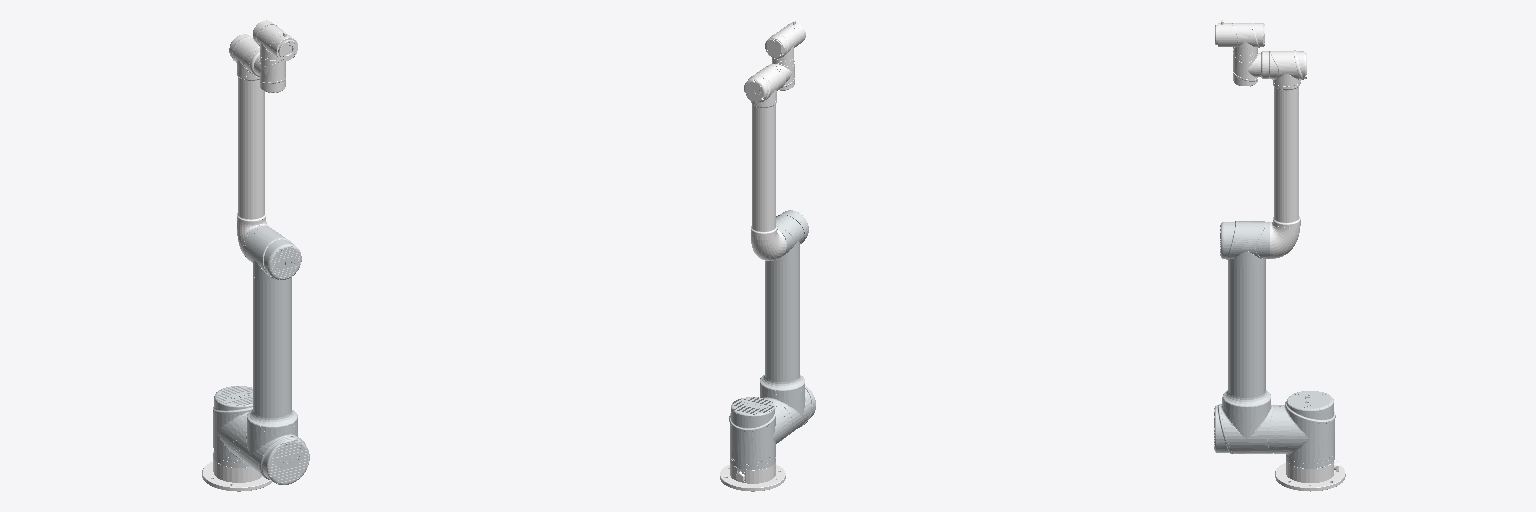
URDF robot description (aubo_i10):
<robot name="aubo_i10">

<!-- base_link-->

  <link name="base_link">
    <inertial>
      <origin xyz="-2.7535E-06 0.00054789 0.02299" rpy="0 0 0" />
      <mass value="1.2345" />
      <inertia ixx="0.0029215" ixy="2.2046E-07" ixz="-3.4773E-08" iyy="0.0028546" iyz="-7.6362E-06" izz="0.0051176" />
    </inertial>
    <visual>
      <origin xyz="0 0 0" rpy="0 0 0" />
      <geometry>
        <mesh filename="package://aubo_description/meshes/aubo_i10/base_link.DAE" />
      </geometry>
      <material name="">
        <color rgba="1 1 1 1" />
      </material>
    </visual>
    <collision>
      <origin xyz="0 0 0" rpy="0 0 0" />
      <geometry>
        <mesh filename="package://aubo_description/meshes/aubo_i10/base_link.STL" />
      </geometry>
    </collision>
  </link>

<!-- shoulder_Link -->

  <link name="shoulder_Link">
    <inertial>
      <origin xyz="0.00029287 0.14173 0.54281" rpy="0 0 0" />
      <mass value="10.994" />
      <inertia ixx="2.2088" ixy="-0.00043922" ixz="-0.0025417" iyy="2.1473" iyz="-0.049088" izz="0.07998" />
    </inertial>
    <visual>
      <origin xyz="0 0 0" rpy="0 0 0" />
      <geometry>
        <mesh
          filename="package://aubo_description/meshes/aubo_i10/shoulder_Link.DAE" />
      </geometry>
      <material name="">
        <color rgba="0.89804 0.91765 0.92941 1" />
      </material>
    </visual>
    <collision>
      <origin xyz="0 0 0" rpy="0 0 0" />
      <geometry>
        <mesh filename="package://aubo_description/meshes/aubo_i10/shoulder_Link.STL" />
      </geometry>
    </collision>
  </link>

<!-- shoulder_joint -->

  <joint name="shoulder_joint" type="revolute">
    <origin xyz="0 0 0.1632" rpy="-8.7138E-17 -4.3534E-32 3.1416" />
    <parent link="base_link" />
    <child link="shoulder_Link" />
    <axis xyz="0 0 1" />
    <limit lower="-3.05" upper="3.05" effort="0" velocity="0" />
  </joint>

<!-- upperArm_Link -->

  <link name="upperArm_Link">
    <inertial>
      <origin xyz="0.31908 -3.7071E-06 -0.0042956" rpy="0 0 0" />
      <mass value="5.3139" />
      <inertia ixx="0.0095171" ixy="7.2849E-06" ixz="-6.7014E-06" iyy="0.11411" iyz="-1.1529E-06" izz="0.11411" />
    </inertial>
    <visual>
      <origin xyz="0 0 0" rpy="0 0 0" />
      <geometry>
        <mesh filename="package://aubo_description/meshes/aubo_i10/upperArm_Link.DAE" />
      </geometry>
      <material name="">
        <color rgba="0.89804 0.91765 0.92941 1" />
      </material>
    </visual>
    <collision>
      <origin xyz="0 0 0" rpy="0 0 0" />
      <geometry>
        <mesh filename="package://aubo_description/meshes/aubo_i10/upperArm_Link.STL" />
      </geometry>
    </collision>
  </link>

<!-- upperArm_Joint -->

  <joint name="upperArm_joint" type="revolute">
    <origin xyz="0 0.2013 0" rpy="-1.5708 -1.5708 0" />
    <parent link="shoulder_Link" />
    <child link="upperArm_Link" />
    <axis xyz="0 0 1" />
    <limit lower="-3.05" upper="3.05" effort="0" velocity="0" />
  </joint>

<!-- foreArm_Link -->

  <link name="foreArm_Link">
    <inertial>
      <origin xyz="0.24431 6.6794E-06 0.12549" rpy="0 0 0" />
      <mass value="3.1022" />
      <inertia ixx="0.0027288" ixy="-6.2713E-06" ixz="-0.0018082" iyy="0.097825" iyz="3.5731E-07" izz="0.097866" />
    </inertial>
    <visual>
      <origin xyz="0 0 0" rpy="0 0 0" />
      <geometry>
        <mesh filename="package://aubo_description/meshes/aubo_i10/foreArm_Link.DAE" />
      </geometry>
      <material name="">
        <color rgba="1 1 1 1" />
      </material>
    </visual>
    <collision>
      <origin xyz="0 0 0" rpy="0 0 0" />
      <geometry>
        <mesh filename="package://aubo_description/meshes/aubo_i10/foreArm_Link.STL" />
      </geometry>
    </collision>
  </link>

<!-- foreArm_Joint -->

  <joint name="foreArm_joint" type="revolute">
    <origin xyz="0.647 0 0" rpy="3.1416 -4.5954E-17 -8.4328E-17" />
    <parent link="upperArm_Link" />
    <child link="foreArm_Link" />
    <axis xyz="0 0 -1" />
    <limit lower="-3.05" upper="3.05" effort="0" velocity="0" />
  </joint>

<!-- wrist1_Link -->

  <link name="wrist1_Link">
    <inertial>
      <origin xyz="5.2305E-07 0.00026581 -0.0027894" rpy="0 0 0" />
      <mass value="0.57981" />
      <inertia ixx="0.00088336" ixy="-6.425E-09" ixz="5.1594E-09" iyy="0.00046118" iyz="-1.0734E-06" izz="0.00085336" />
    </inertial>
    <visual>
      <origin xyz="0 0 0" rpy="0 0 0" />
      <geometry>
        <mesh filename="package://aubo_description/meshes/aubo_i10/wrist1_Link.DAE" />
      </geometry>
      <material name="">
        <color rgba="1 1 1 1" />
      </material>
    </visual>
    <collision>
      <origin xyz="0 0 0" rpy="0 0 0" />
      <geometry>
        <mesh filename="package://aubo_description/meshes/aubo_i10/wrist1_Link.STL" />
      </geometry>
    </collision>
  </link>

<!-- wrist1_Joint -->

  <joint name="wrist1_joint" type="revolute">
    <origin xyz="0.6005 0 0" rpy="-3.1416 -1.4294E-15 1.5708" />
    <parent link="foreArm_Link" />
    <child link="wrist1_Link" />
    <axis xyz="0 0 1" />
    <limit lower="-3.05" upper="3.05" effort="0" velocity="0" />
  </joint>

<!-- wrist2_Link -->

  <link name="wrist2_Link">
    <inertial>
      <origin xyz="-5.2305E-07 -0.00026581 -0.0027894" rpy="0 0 0" />
      <mass value="0.57981" />
      <inertia ixx="0.00088336" ixy="-6.4251E-09" ixz="-5.1594E-09" iyy="0.00046118" iyz="1.0734E-06" izz="0.00085336" />
    </inertial>
    <visual>
      <origin xyz="0 0 0" rpy="0 0 0" />
      <geometry>
        <mesh filename="package://aubo_description/meshes/aubo_i10/wrist2_Link.DAE" />
      </geometry>
      <material name="">
        <color rgba="1 1 1 1" />
      </material>
    </visual>
    <collision>
      <origin xyz="0 0 0" rpy="0 0 0" />
      <geometry>
        <mesh filename="package://aubo_description/meshes/aubo_i10/wrist2_Link.STL" />
      </geometry>
    </collision>
  </link>

<!-- wrist2_Joint -->

  <joint name="wrist2_joint" type="revolute">
    <origin xyz="0 0.1025 0" rpy="-1.5708 -7.0777E-16 -7.4101E-16" />
    <parent link="wrist1_Link" />
    <child link="wrist2_Link" />
    <axis xyz="0 0 1" />
    <limit lower="-3.05" upper="3.05" effort="0" velocity="0" />
  </joint>

<!-- wrist3_Link -->

  <link name="wrist3_Link">
    <inertial>
      <origin xyz="-2.2127E-09 0.00023722 -0.018629" rpy="0 0 0" />
      <mass value="0.13669" />
      <inertia ixx="6.0946E-05" ixy="9.3663E-12" ixz="-1.3841E-12" iyy="5.9501E-05" iyz="1.9944E-07" izz="9.6981E-05" />
    </inertial>
    <visual>
      <origin xyz="0 0 0" rpy="0 0 0" />
      <geometry>
        <mesh filename="package://aubo_description/meshes/aubo_i10/wrist3_Link.DAE" />
      </geometry>
      <material name="">
        <color rgba="1 1 1 1" />
      </material>
    </visual>
    <collision>
      <origin xyz="0 0 0" rpy="0 0 0" />
      <geometry>
        <mesh filename="package://aubo_description/meshes/aubo_i10/wrist3_Link.STL" />
      </geometry>
    </collision>
  </link>

<!-- wrist3_Joint -->

  <joint name="wrist3_joint" type="revolute">
    <origin xyz="0 -0.094 0" rpy="1.5708 0 6.7283E-16" />
    <parent link="wrist2_Link" />
    <child link="wrist3_Link" />
    <axis xyz="0 0 1" />
    <limit lower="-3.05" upper="3.05" effort="0" velocity="0" />
  </joint>

</robot>

--- Render facts (derived) ---
Views: 3 orthographic renders of the robot side by side, from view 1: azimuth 30°, elevation 25°; view 2: azimuth 150°, elevation 25°; view 3: azimuth 270°, elevation 25°.
Model aubo_i10 with 7 links and 6 joints (6 revolute), rooted at base_link, posed every joint at zero.
Links seen in each view (by area): view 1: upperArm_Link, foreArm_Link, shoulder_Link, base_link, wrist1_Link, wrist2_Link, wrist3_Link; view 2: upperArm_Link, foreArm_Link, shoulder_Link, base_link, wrist2_Link; view 3: upperArm_Link, foreArm_Link, shoulder_Link, base_link, wrist2_Link, wrist1_Link.
Link boxes in pixels (x1,y1,x2,y2): upperArm_Link: (233, 226, 309, 484); foreArm_Link: (229, 34, 268, 256); shoulder_Link: (213, 386, 263, 467); base_link: (202, 458, 272, 491); wrist1_Link: (250, 50, 285, 92); wrist2_Link: (253, 20, 283, 58); wrist3_Link: (271, 32, 297, 60); upperArm_Link: (760, 210, 815, 438); foreArm_Link: (744, 65, 786, 260); shoulder_Link: (729, 397, 786, 469); base_link: (720, 462, 785, 491); wrist2_Link: (765, 26, 800, 59); upperArm_Link: (1214, 221, 1278, 453); foreArm_Link: (1266, 50, 1306, 258); shoulder_Link: (1279, 391, 1335, 468); base_link: (1275, 461, 1345, 491); wrist2_Link: (1228, 23, 1264, 53); wrist1_Link: (1233, 49, 1265, 86).
Bounding box of the posed robot: 0.219 × 0.4075 × 1.56 m (x, y, z).
Meshes: 7 distinct files referenced, 7 mesh visuals loaded (7 Collada DAE).